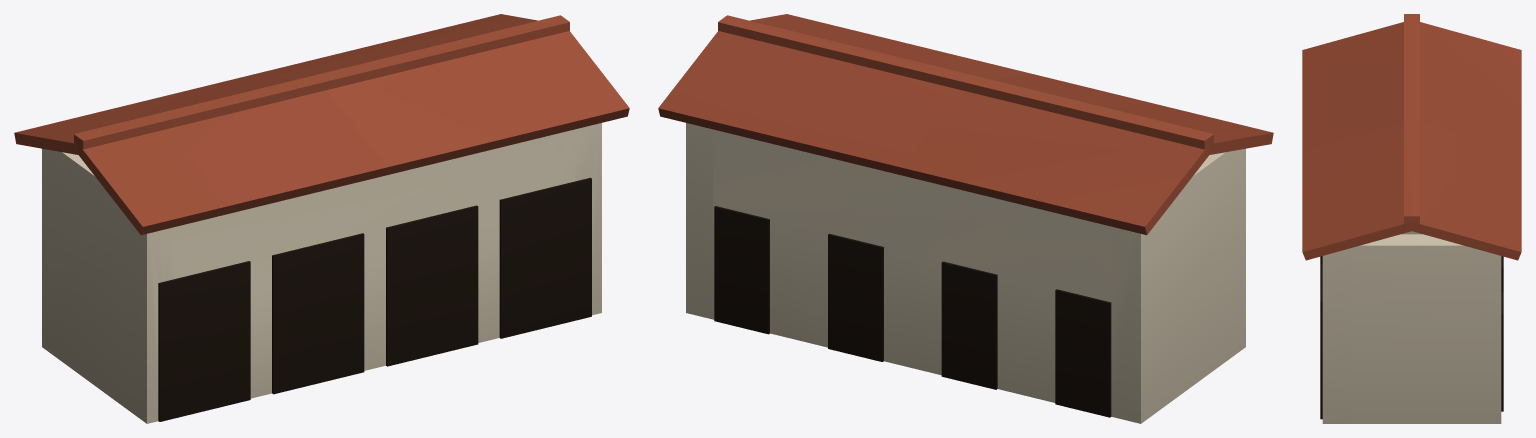
The model's file is colonial_portal_lod1.glb.
The picture shows the model from 3 angles, left to right: view 1: azimuth 30°, elevation 25°; view 2: azimuth 150°, elevation 25°; view 3: azimuth 270°, elevation 25°; orthographic projection. The views are drawn at different scales.
Parts seen in each view (by area): view 1: GEO-Arch_colonial_portal_LOD1; view 2: GEO-Arch_colonial_portal_LOD1; view 3: GEO-Arch_colonial_portal_LOD1.
Boxes of the visible parts, x1,y1,x2,y2 form: GEO-Arch_colonial_portal_LOD1: (14, 14, 629, 423); GEO-Arch_colonial_portal_LOD1: (658, 14, 1273, 423); GEO-Arch_colonial_portal_LOD1: (1302, 14, 1521, 423).
Bounding box in the file's own units: 10.7 × 5.29 × 4.9.
